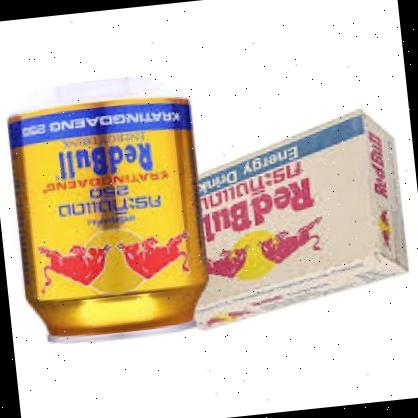can: (0, 67, 218, 352)
